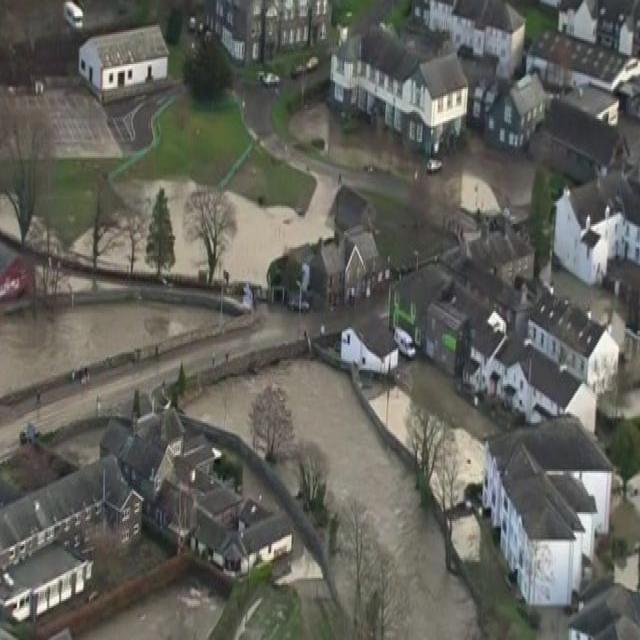flood: (184, 360, 475, 640), (0, 306, 322, 456), (289, 100, 564, 219), (0, 304, 188, 394), (216, 174, 340, 288), (67, 580, 228, 640), (115, 179, 207, 278), (40, 271, 126, 290), (99, 231, 129, 272), (61, 231, 90, 266), (0, 194, 18, 240), (30, 218, 46, 250)
house: (104, 392, 298, 568), (488, 408, 622, 608), (324, 18, 476, 177), (0, 452, 120, 572), (524, 267, 621, 398), (554, 172, 632, 294), (211, 1, 341, 69), (82, 18, 170, 102), (533, 27, 640, 92), (484, 75, 546, 158), (422, 281, 473, 376), (312, 229, 381, 299), (459, 2, 526, 68), (345, 315, 400, 384)
